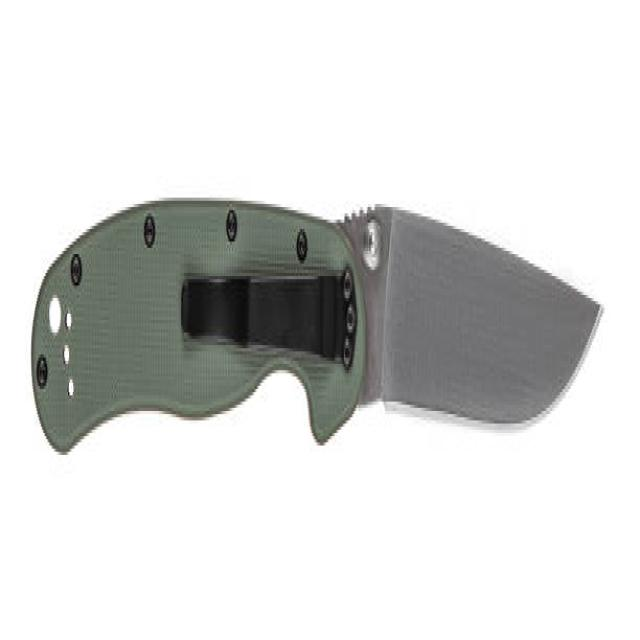knife: (25, 188, 609, 466)
